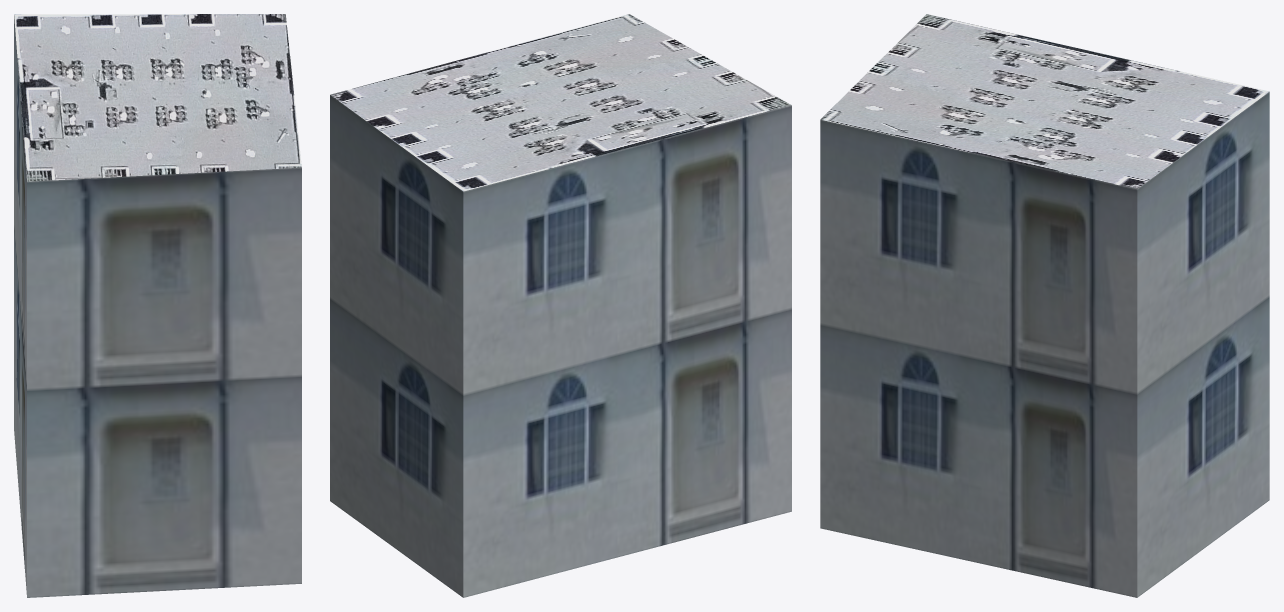
File: ResTex__4568.fbx
3 views of the same model, side by side, from view 1: azimuth 30°, elevation 25°; view 2: azimuth 150°, elevation 25°; view 3: azimuth 270°, elevation 25° (orthographic). The views are drawn at different scales.
Parts seen in each view (by area): view 1: CityEngineMaterial_17_m, CityEngineMaterial_4_m; view 2: CityEngineMaterial_17_m, CityEngineMaterial_4_m; view 3: CityEngineMaterial_17_m, CityEngineMaterial_4_m.
Part boxes in pixels (x1,y1,x2,y2): CityEngineMaterial_17_m: (14,15,301,597); CityEngineMaterial_4_m: (14,14,301,181); CityEngineMaterial_17_m: (330,95,791,597); CityEngineMaterial_4_m: (330,14,791,191); CityEngineMaterial_17_m: (820,92,1269,597); CityEngineMaterial_4_m: (820,14,1269,189).
Bounding box in the file's own units: 5.52 × 6 × 5.98.
2 materials, 2 textured.
